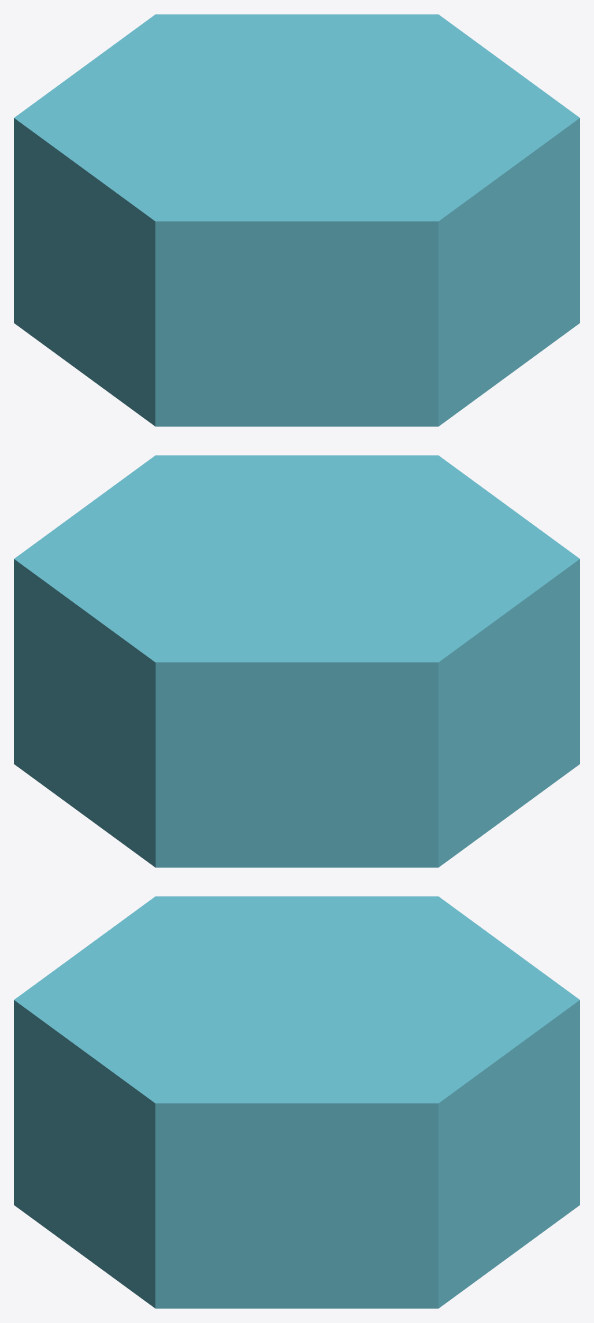
Rendered from shallow_water1.glb.
3 renders of one model, top to bottom at view 1: azimuth 30°, elevation 25°; view 2: azimuth 150°, elevation 25°; view 3: azimuth 270°, elevation 25°, orthographic.
Visible parts, largest first — view 1: ShallowWaterTileHalf-col; view 2: ShallowWaterTileHalf-col; view 3: ShallowWaterTileHalf-col.
Boxes of the visible parts, x1,y1,x2,y2 form: ShallowWaterTileHalf-col: [14, 14, 579, 426]; ShallowWaterTileHalf-col: [14, 455, 579, 867]; ShallowWaterTileHalf-col: [14, 896, 579, 1308].
Size of the model in its own units: 1.73 by 0.8 by 2.
Materials: 2 (2 with a texture image).
